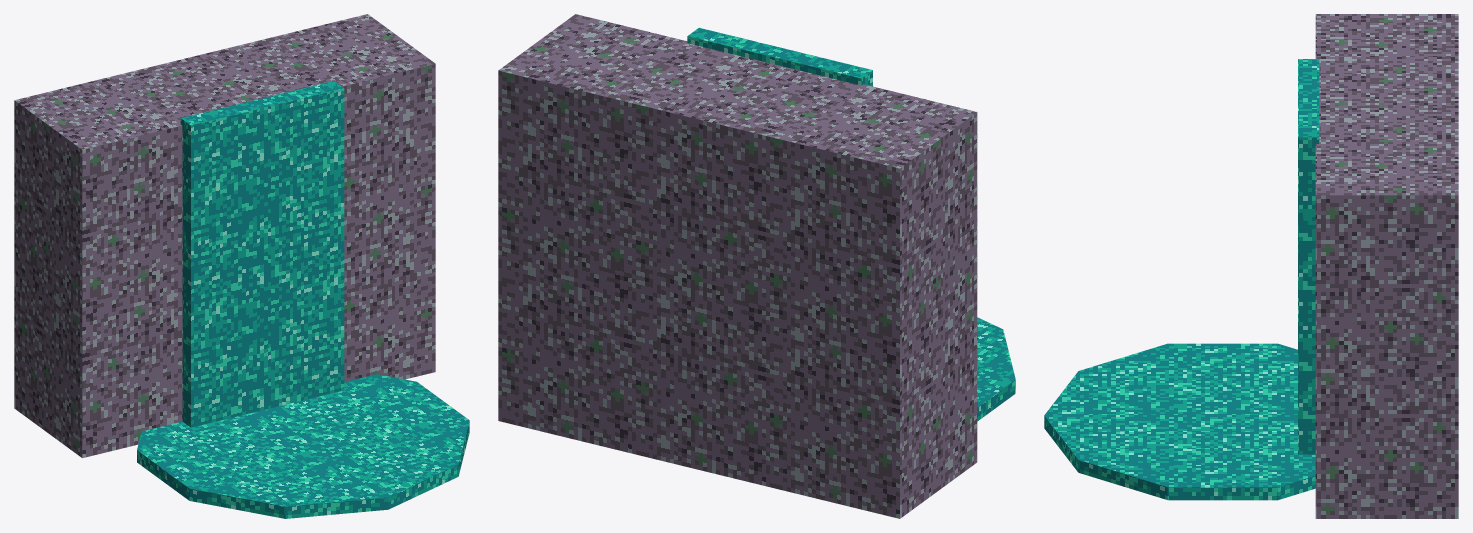
File: a03_cascata.glb
The picture shows the model from 3 angles, left to right: view 1: azimuth 30°, elevation 25°; view 2: azimuth 150°, elevation 25°; view 3: azimuth 270°, elevation 25°; orthographic projection. The views are drawn at different scales.
Parts seen in each view (by area): view 1: a03_cascata; view 2: a03_cascata; view 3: a03_cascata.
Boxes of the visible parts, x1=… form: a03_cascata: x1=14, y1=14, x2=469, y2=518; a03_cascata: x1=498, y1=14, x2=1015, y2=518; a03_cascata: x1=1044, y1=14, x2=1458, y2=518.
Size of the model in its own units: 6 by 5.1 by 5.8.
2 materials, 2 textured.
